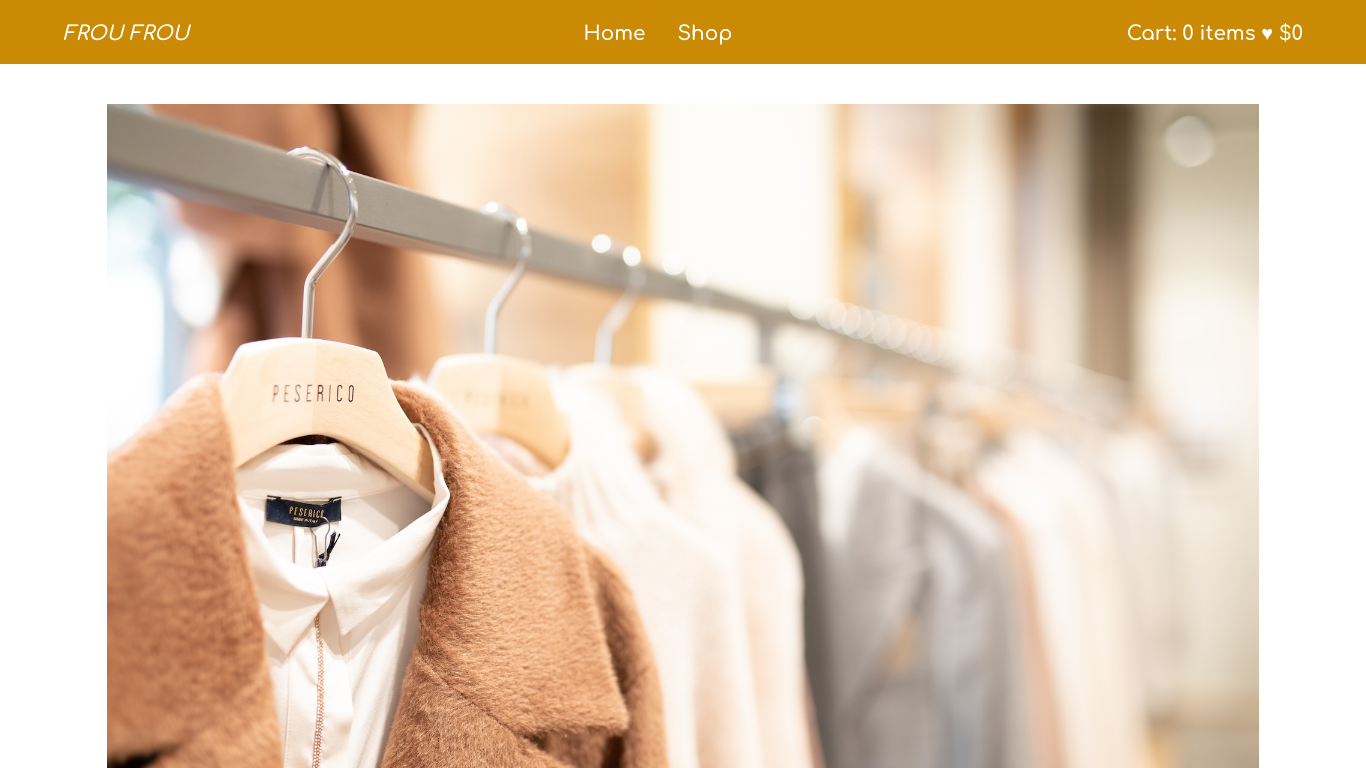
Test: App component › renders cart when clicking on the cart link
Click the link "Cart: 0 items ♥ $0" at x=1127, y=20, box [1127, 20, 1303, 48]
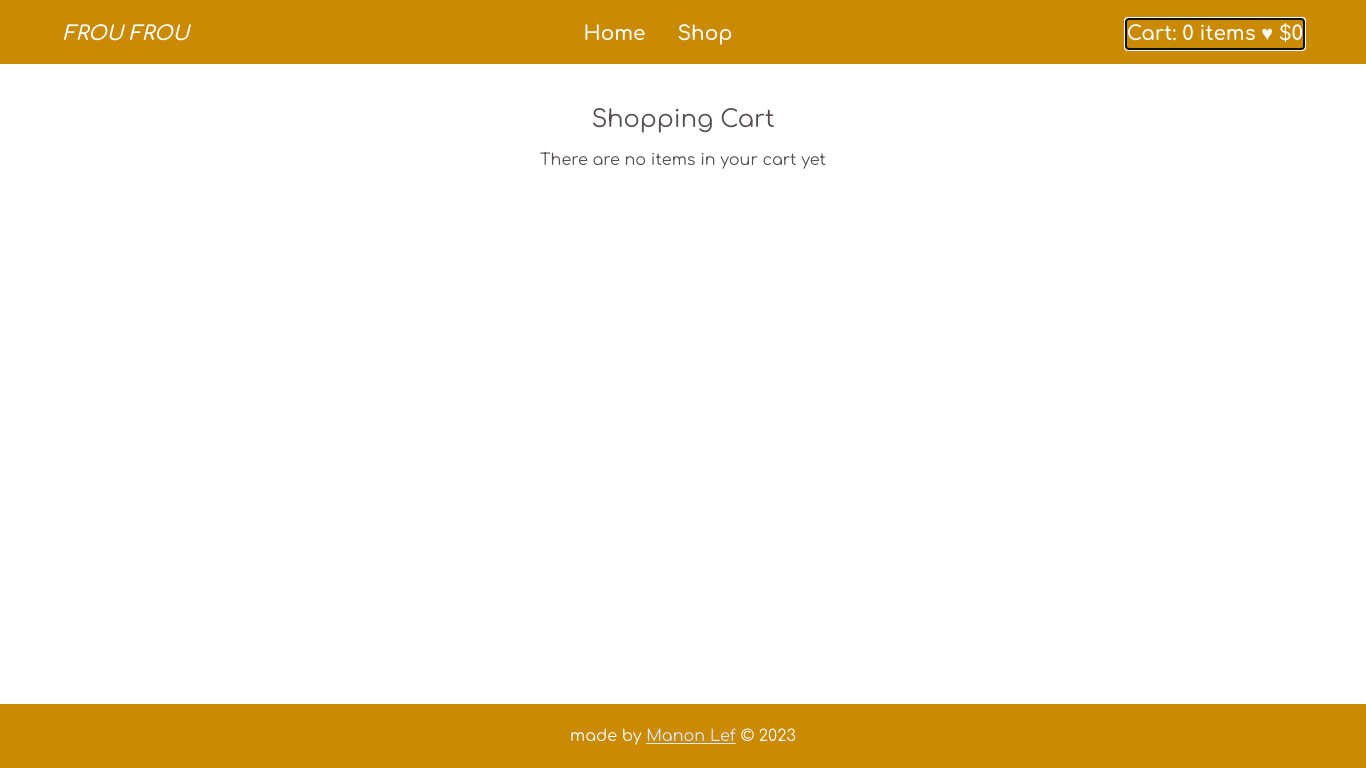
Expected: the heading "Shopping Cart" is shown, [591, 106, 775, 133]
